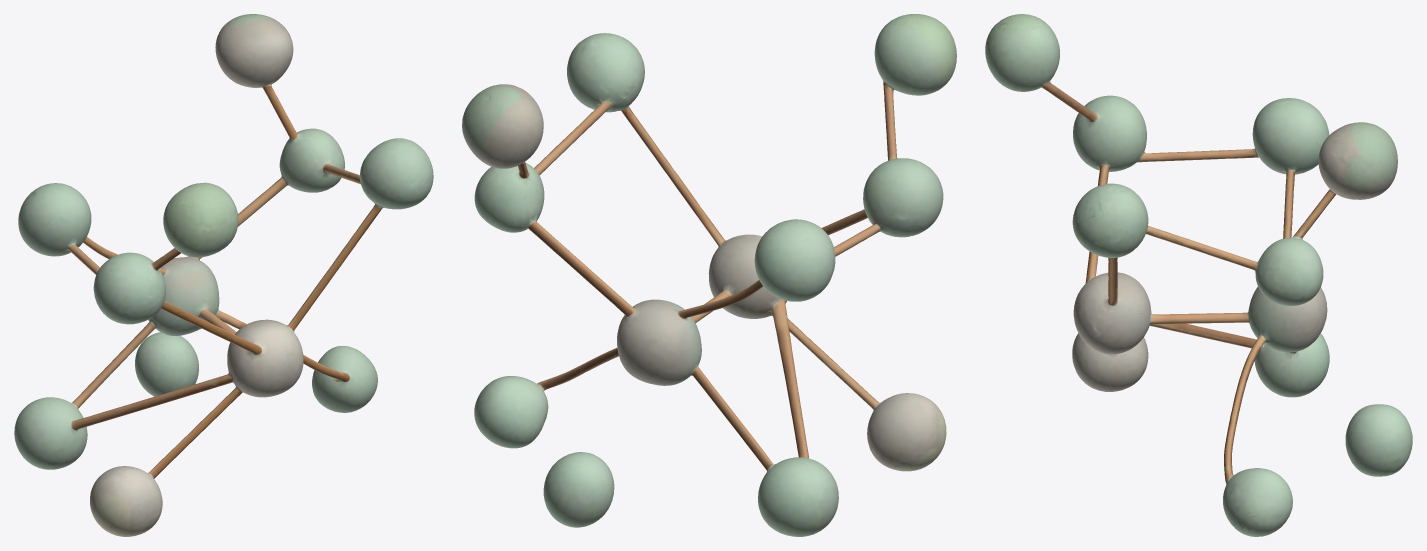
The model's file is rift-molecule.glb.
The picture shows the model from 3 angles, left to right: view 1: azimuth 30°, elevation 25°; view 2: azimuth 150°, elevation 25°; view 3: azimuth 270°, elevation 25°; orthographic projection. The views are drawn at different scales.
Visible parts, largest first — view 1: Mesh_0; view 2: Mesh_0; view 3: Mesh_0.
Part boxes in pixels (x1,y1,x2,y2): Mesh_0: (14, 14, 433, 536); Mesh_0: (462, 14, 956, 536); Mesh_0: (985, 14, 1412, 536).
Bounding box in the file's own units: 1.88 × 1.9 × 1.9.
Materials: 1 (1 with a texture image).
